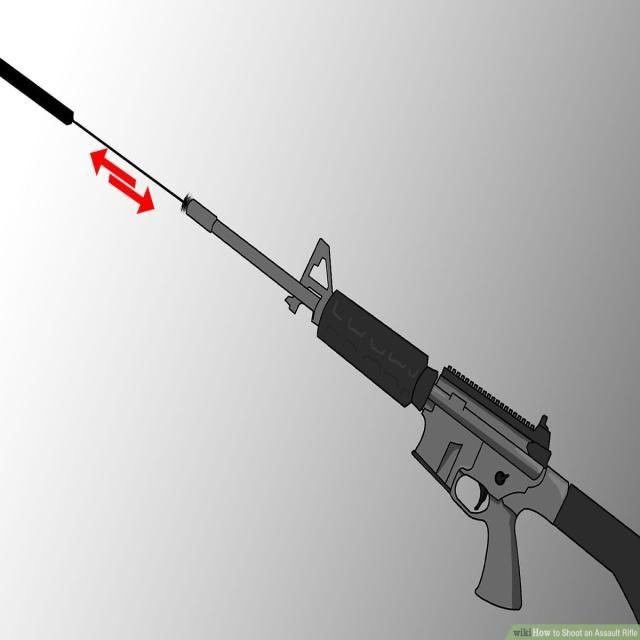Rifle: (178, 196, 640, 624)
